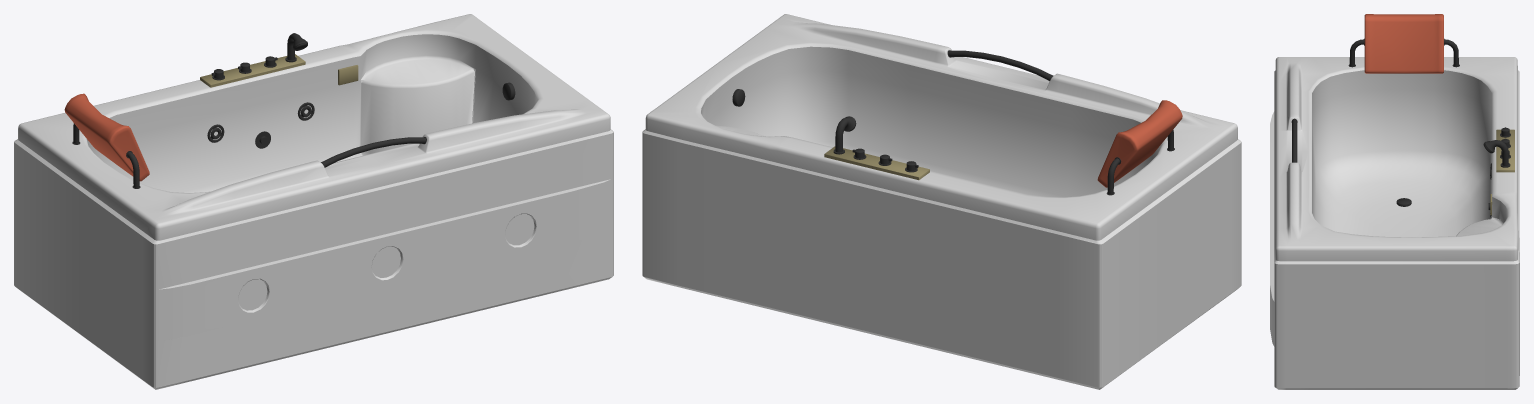
Rendered from YT2823BathtubRL.FBX.
3 renders of one model, left to right at view 1: azimuth 30°, elevation 25°; view 2: azimuth 150°, elevation 25°; view 3: azimuth 270°, elevation 25°, orthographic. The views are drawn at different scales.
Parts seen in each view (by area): view 1: YT2823BathtubRL; view 2: YT2823BathtubRL; view 3: YT2823BathtubRL.
Part boxes in pixels (x1,y1,x2,y2): YT2823BathtubRL: [14, 14, 613, 389]; YT2823BathtubRL: [642, 14, 1241, 389]; YT2823BathtubRL: [1270, 14, 1519, 389].
Size of the model in its own units: 150 by 81.58 by 68.9.
